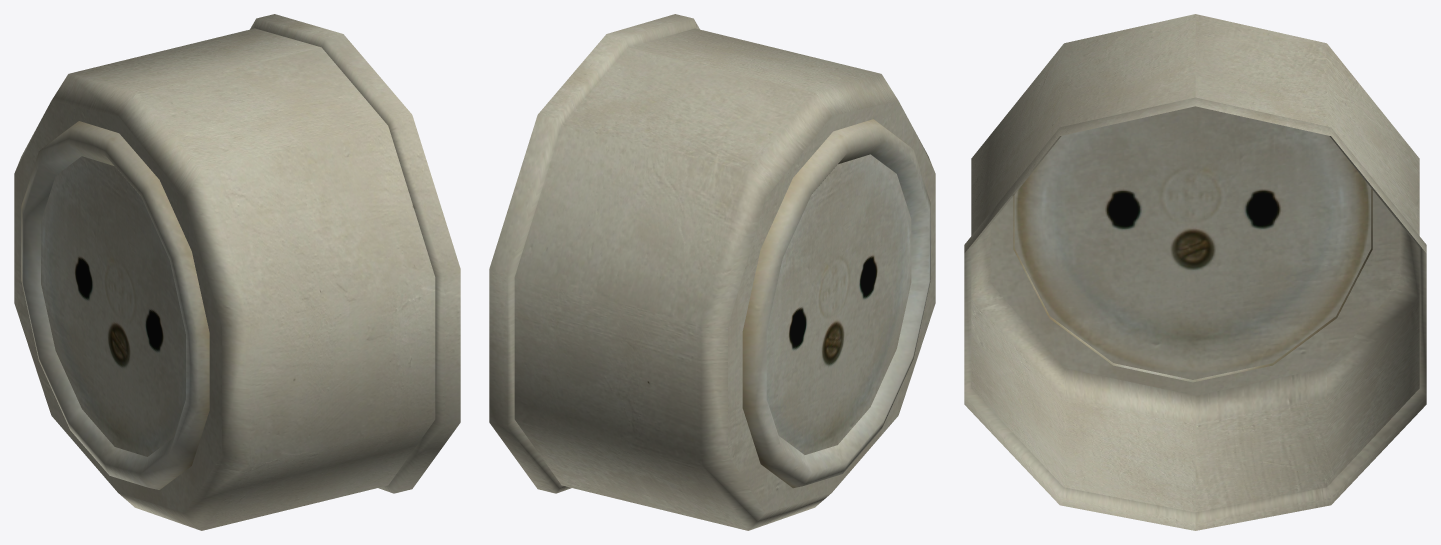
The model's file is Socket_Single.fbx.
3 renders of one model, left to right at view 1: azimuth 30°, elevation 25°; view 2: azimuth 150°, elevation 25°; view 3: azimuth 270°, elevation 25°, orthographic.
Visible parts, largest first — view 1: Socket_Single; view 2: Socket_Single; view 3: Socket_Single.
Boxes of the visible parts, <box> form: Socket_Single: <box>14,14,460,530</box>; Socket_Single: <box>489,14,935,530</box>; Socket_Single: <box>964,14,1426,530</box>.
Bounding box in the file's own units: 0.0685 × 0.1174 × 0.1159.
